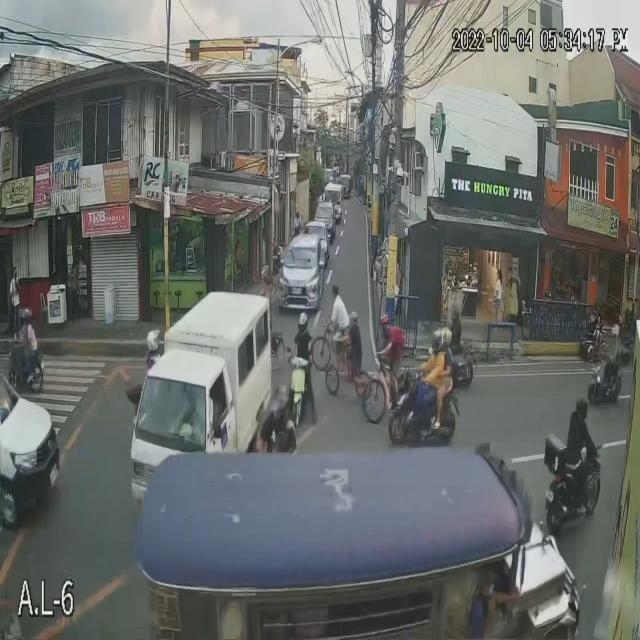full: (271, 394, 287, 427), (431, 329, 443, 355), (298, 312, 307, 337)
